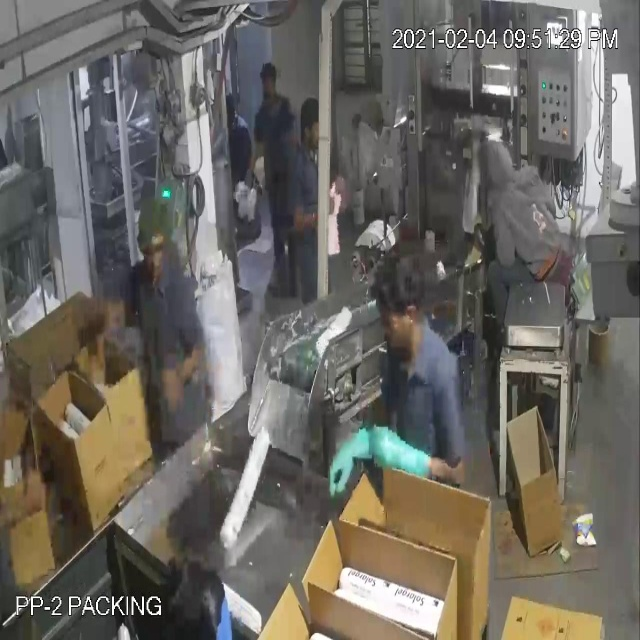Guantes: (320, 397, 380, 520), (365, 403, 433, 493)
Sin_guantes: (5, 446, 50, 564), (85, 290, 139, 379), (152, 336, 207, 418), (290, 192, 331, 244)
